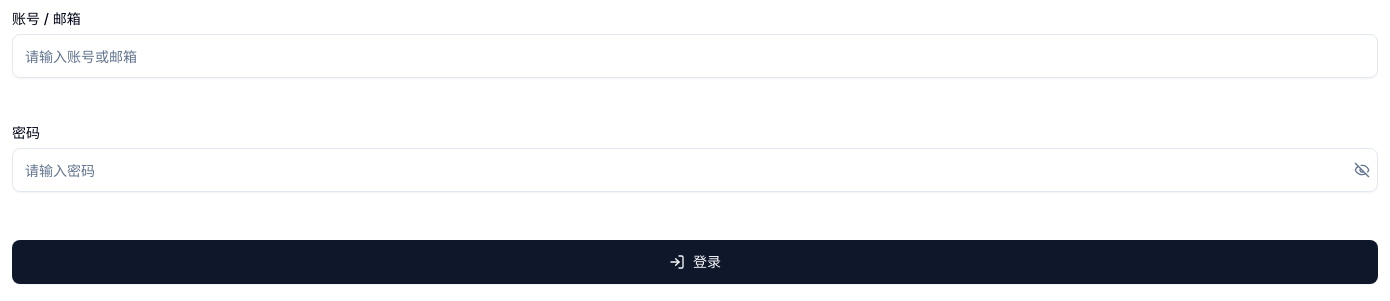
Test case: UserAuthForm › shows required messages for an empty submission
Click the button "登录". click: (695, 262)
box: [12,240,1378,284]
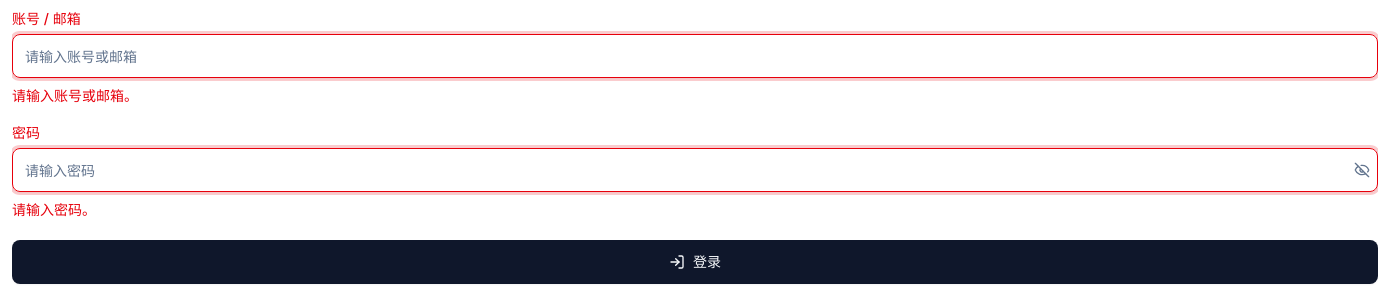
Result: the text "请输入账号或邮箱。" is shown at [12,87,138,104]
Result: the text "请输入密码。" is shown at [12,201,96,218]
